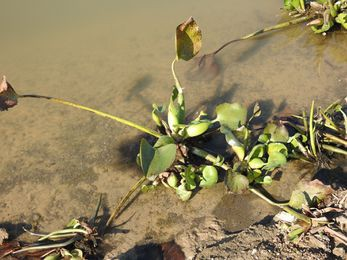water_hyacinth: (137, 17, 344, 190)
